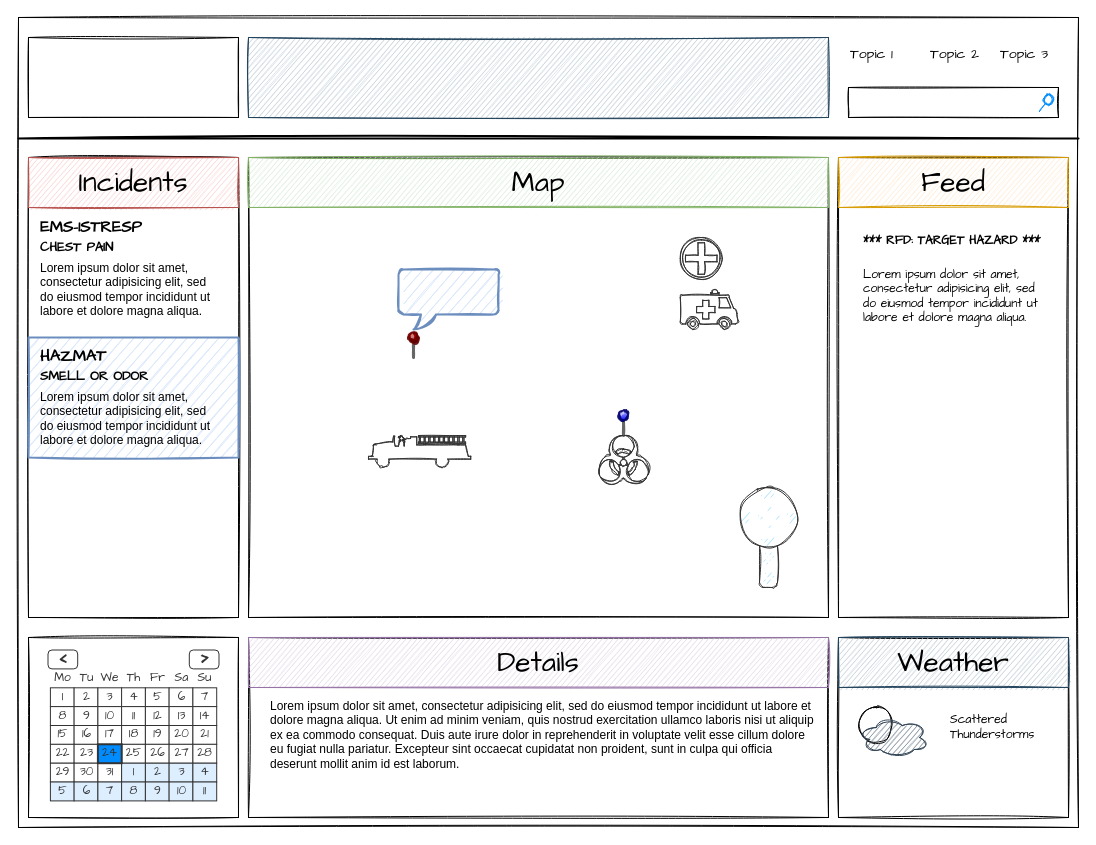
The diagram is 1096 pixels wide and 845 high, and some of its shapes have lost their labels. The centre of each missing label's shape, as x and y in pixels:
"Address Info" belongs at point 448,299.
"LOGO" belongs at point 133,77.
"October 2014" belongs at point 133,659.
"Richmond Fire and Emergency Services Incident Tracking System" belongs at point 538,77.
"Search" belongs at point 953,102.
